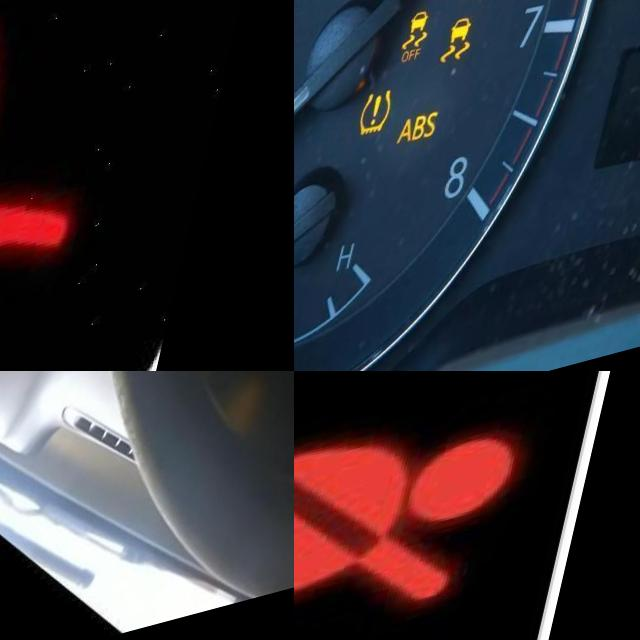Seat Belt: (294, 371, 562, 640), (0, 0, 155, 371)
